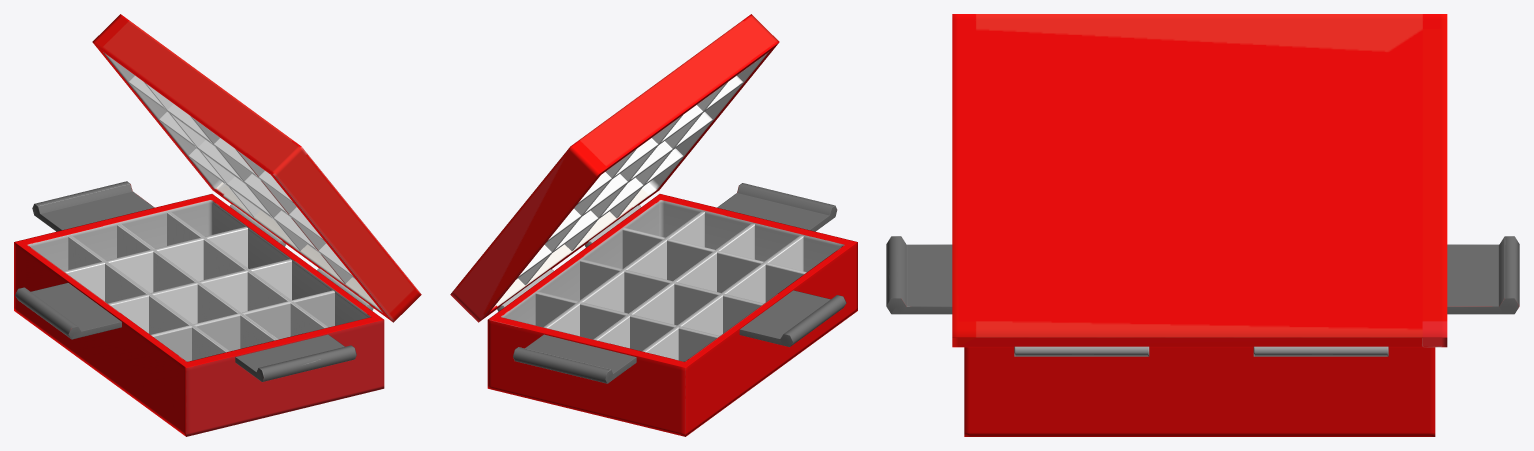
3 views of the same model, side by side, from view 1: azimuth 30°, elevation 25°; view 2: azimuth 150°, elevation 25°; view 3: azimuth 270°, elevation 25° (orthographic). The views are drawn at different scales.
Parts seen in each view (by area): view 1: Box, Seperators, Topbox, TopSeperator, rightClose, centerClose, leftClose, hinges; view 2: Box, Seperators, Topbox, TopSeperator, rightClose, centerClose, leftClose, hinges; view 3: Topbox, Box, rightClose, leftClose, hinges.
Part boxes in pixels (x1=…): Box: x1=14, y1=194, x2=384, y2=436; Seperators: x1=63, y1=211, x2=334, y2=361; Topbox: x1=92, y1=14, x2=421, y2=322; TopSeperator: x1=128, y1=75, x2=354, y2=283; rightClose: x1=32, y1=181, x2=154, y2=231; centerClose: x1=15, y1=283, x2=121, y2=339; leftClose: x1=235, y1=334, x2=356, y2=381; hinges: x1=229, y1=204, x2=373, y2=310; Box: x1=487, y1=194, x2=857, y2=436; Seperators: x1=535, y1=211, x2=806, y2=361; Topbox: x1=450, y1=14, x2=779, y2=322; TopSeperator: x1=517, y1=75, x2=743, y2=285; rightClose: x1=513, y1=334, x2=636, y2=383; centerClose: x1=739, y1=290, x2=846, y2=347; leftClose: x1=717, y1=183, x2=837, y2=231; hinges: x1=497, y1=205, x2=640, y2=311; Topbox: x1=952, y1=14, x2=1447, y2=347; Box: x1=964, y1=347, x2=1435, y2=436; rightClose: x1=1447, y1=236, x2=1519, y2=314; leftClose: x1=886, y1=236, x2=952, y2=314; hinges: x1=1014, y1=346, x2=1388, y2=356.
Bounding box in the file's own units: 2.02 × 1.81 × 2.84.
